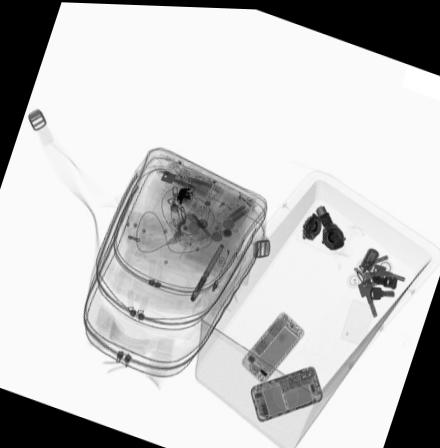Lighter: (170, 160, 191, 183)
